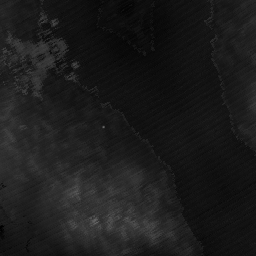Target: (101, 124, 106, 129)
